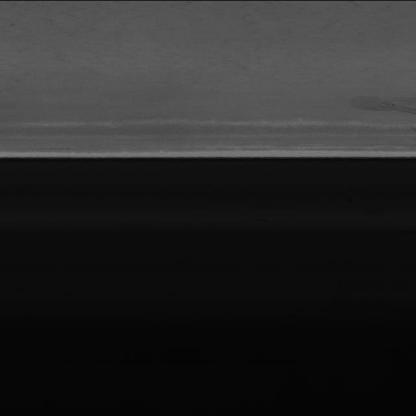water_spot: (328, 94, 413, 124)
